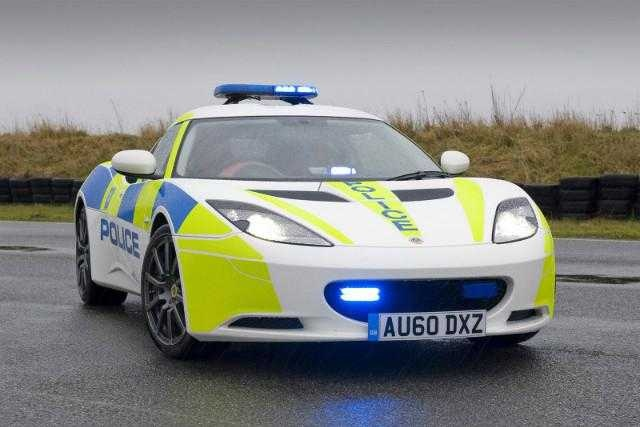Police Car: (53, 57, 554, 364)
